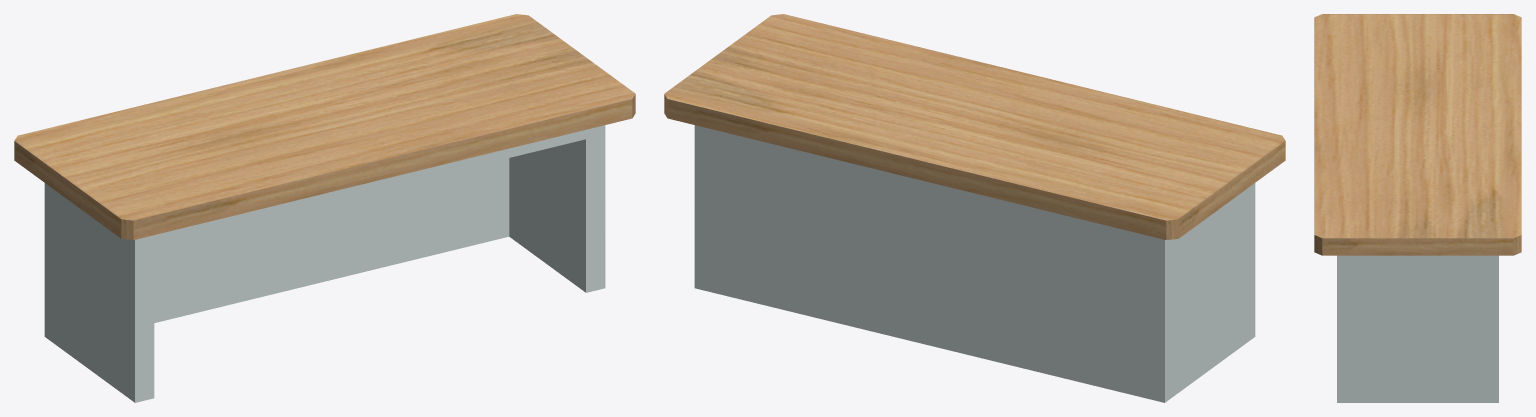
File: BarTable01.FBX
The picture shows the model from 3 angles, left to right: view 1: azimuth 30°, elevation 25°; view 2: azimuth 150°, elevation 25°; view 3: azimuth 270°, elevation 25°; orthographic projection. The views are drawn at different scales.
Visible parts, largest first — view 1: CoffeeTable002; view 2: CoffeeTable002; view 3: CoffeeTable002.
Part boxes in pixels (x1,y1,x2,y2): CoffeeTable002: [14, 14, 635, 402]; CoffeeTable002: [664, 14, 1285, 402]; CoffeeTable002: [1314, 14, 1521, 402].
Size of the model in its own units: 328 by 119 by 128.
